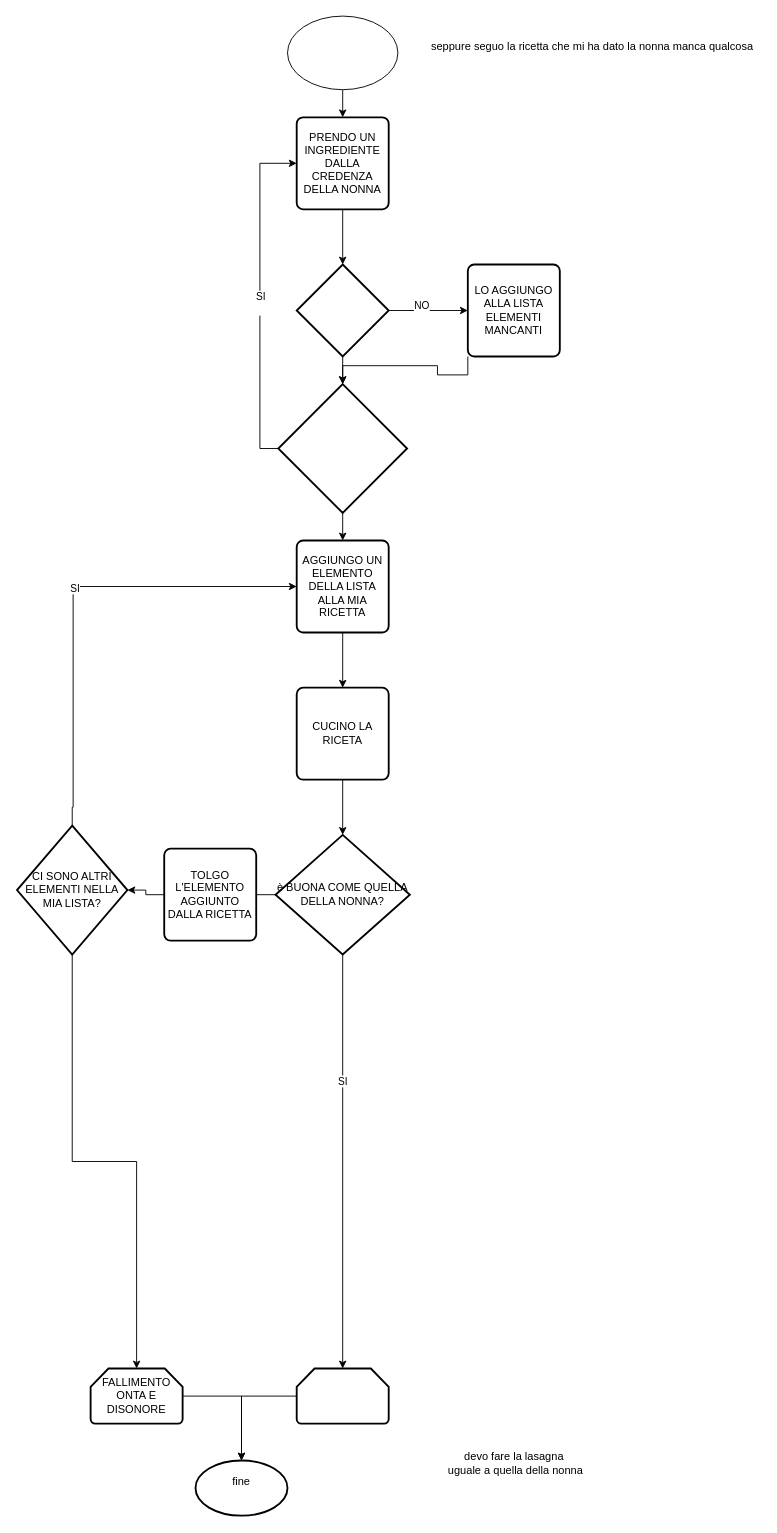
The diagram is 777 pixels wide and 1533 high, and some of its shapes have lost their labels. Here are the shapes that lost their labels. From the top down, the centre of each, then its label:
(x=342, y=52): inizio
(x=342, y=310): è già nella ricetta?
(x=342, y=448): CI SONO ANOCRA ELEMENTI IN CREDENZA?
(x=342, y=1395): HO MATCHATO LA NONNA
